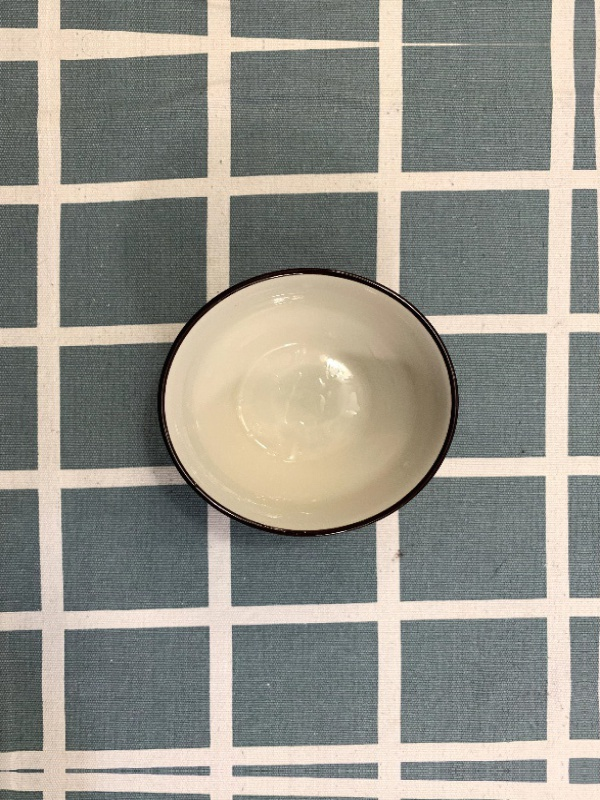bowl_small: (148, 260, 465, 545)
